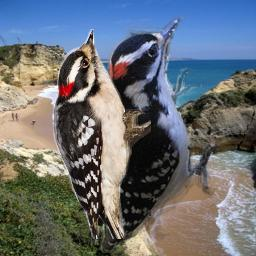Woodpecker: (91, 15, 219, 253), (53, 29, 151, 239)
